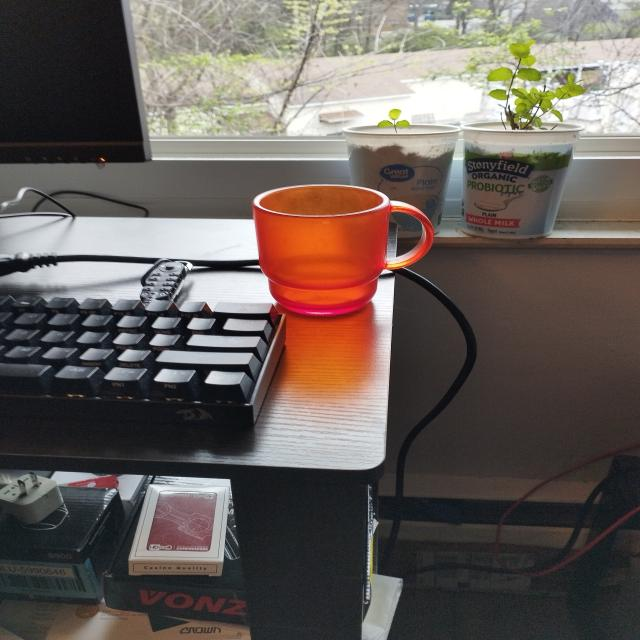Cup: (226, 170, 478, 322)
